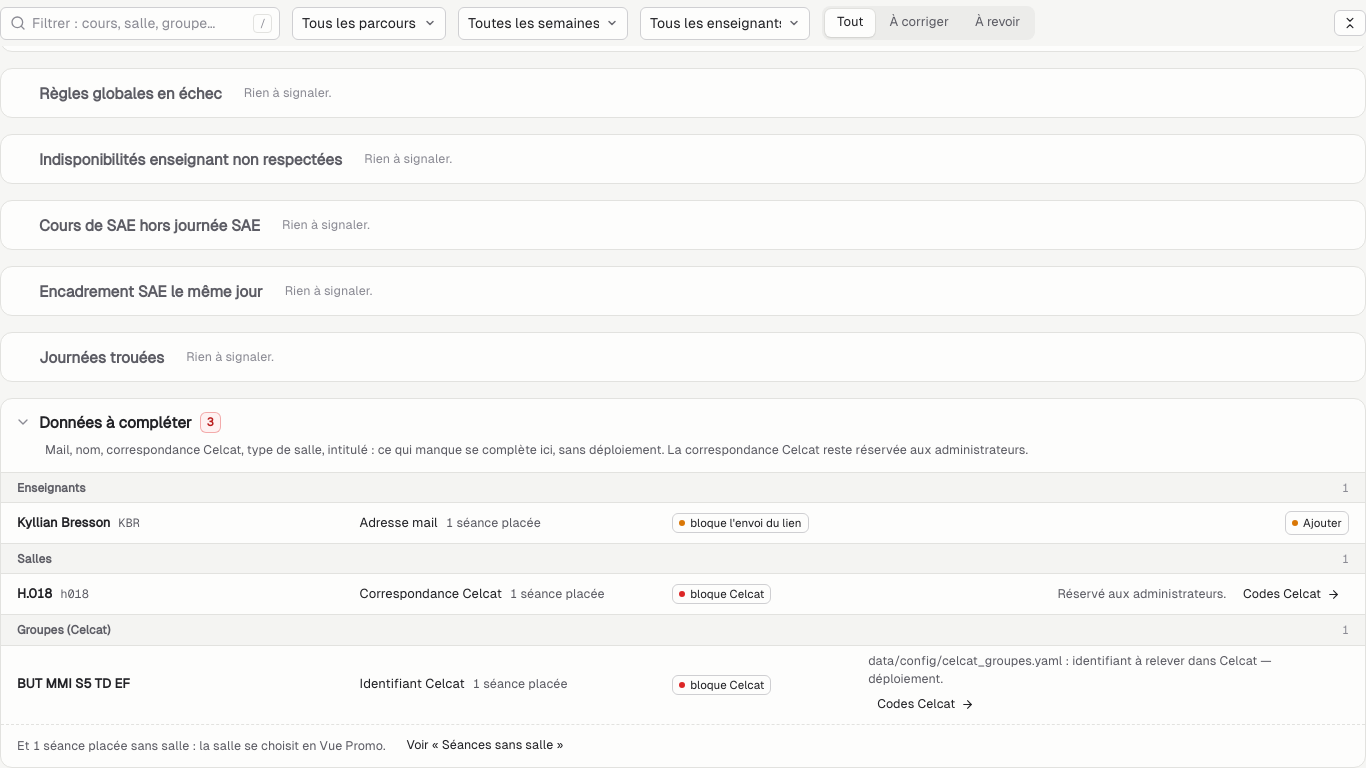
Scenario: TodoView — Données à compléter › complète un mail en ligne (rôle edit) et prévient l'appli
The image size is (1366, 768).
(page scrolled)
Click the button with aria-label "Ajouter — Adresse mail de Kyllian Bresson" at (1317, 523), box [1285,511,1349,535]
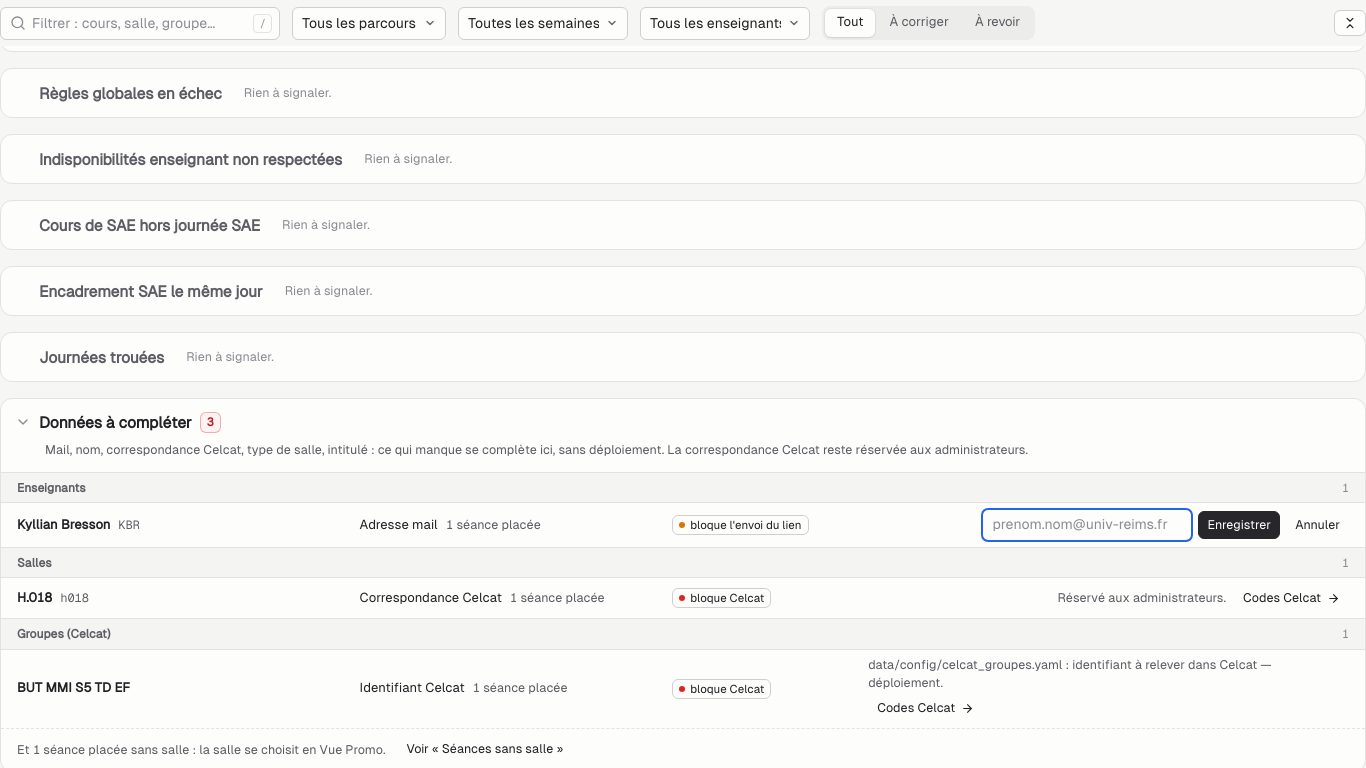
Type "kyllian.bresson@univ-reims.fr" into the field named "Adresse mail de Kyllian Bresson" at (1087, 525), box [982,509,1192,541]
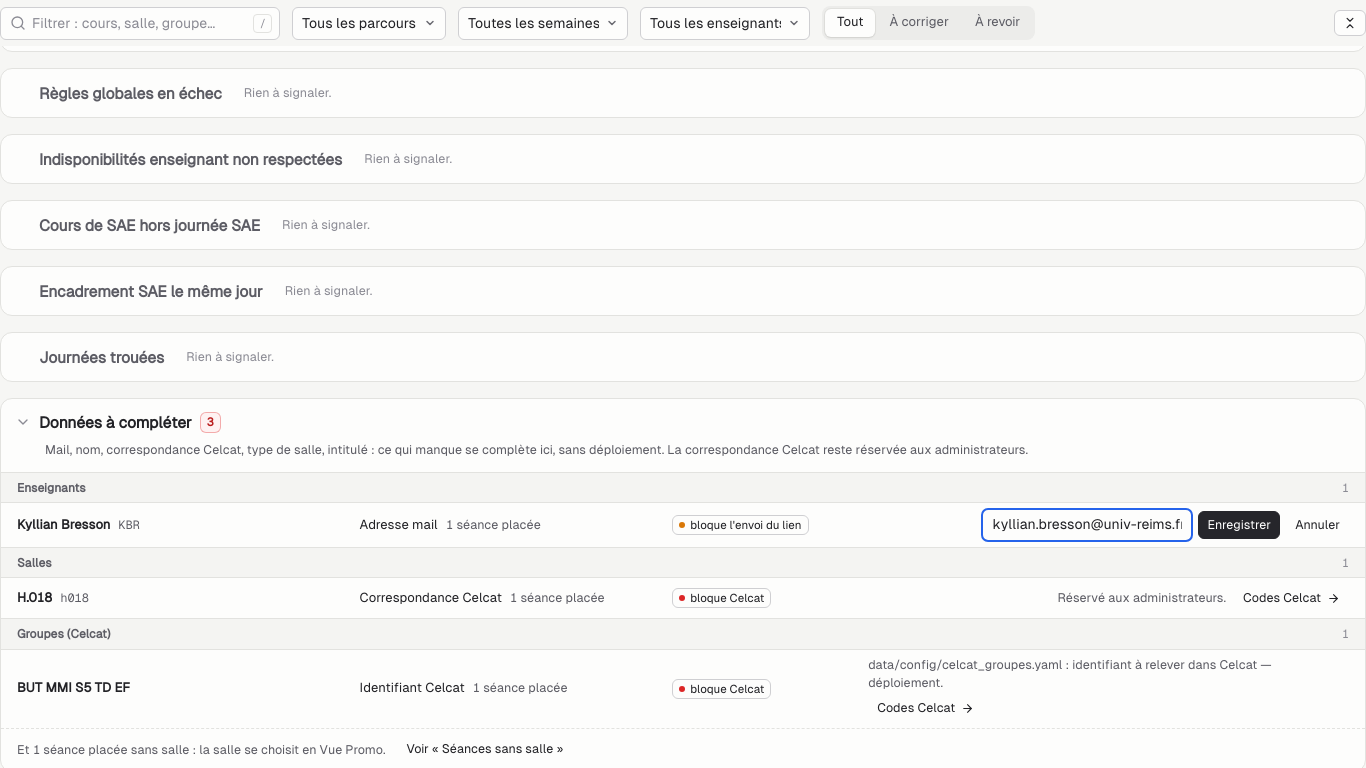
Click the button "Enregistrer" at (1239, 525), box [1198,511,1280,539]
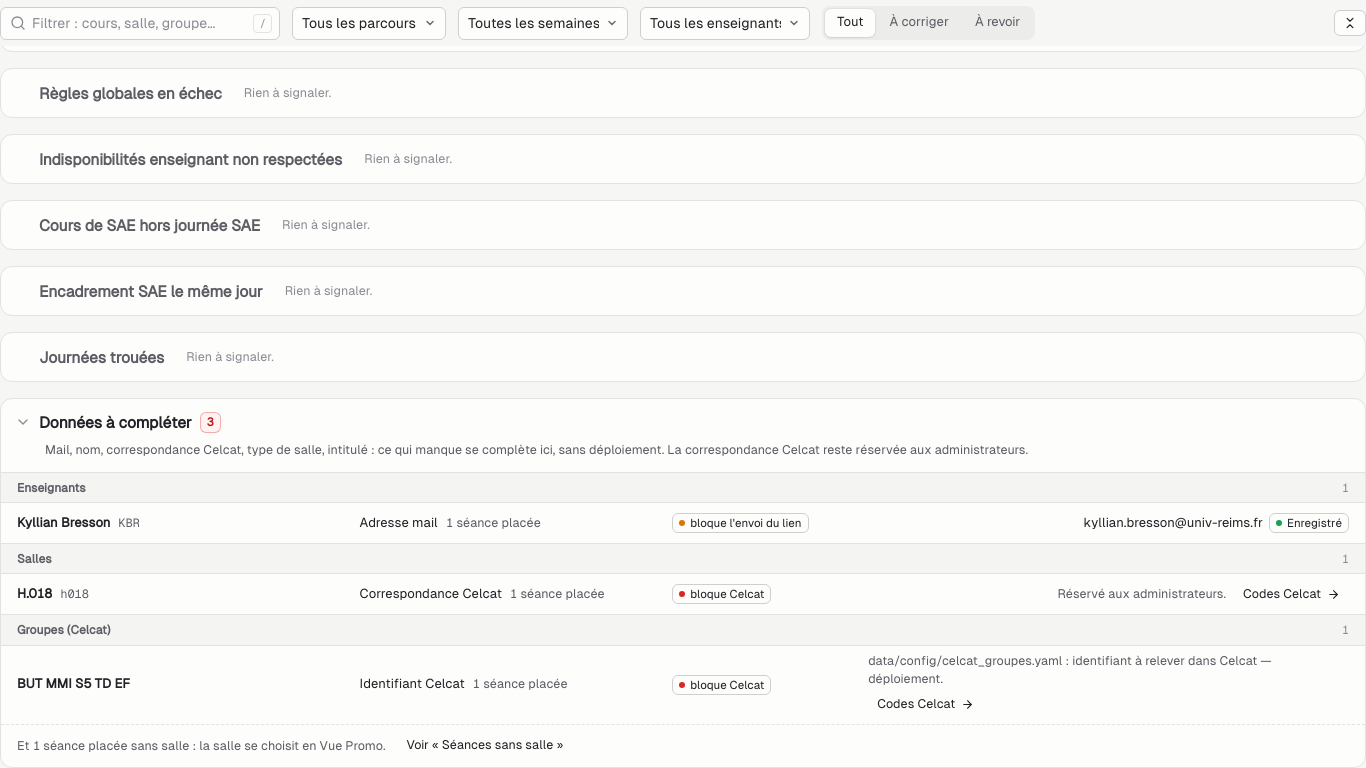
Now the text "Enregistré" is shown, box [1269,513,1349,533]
